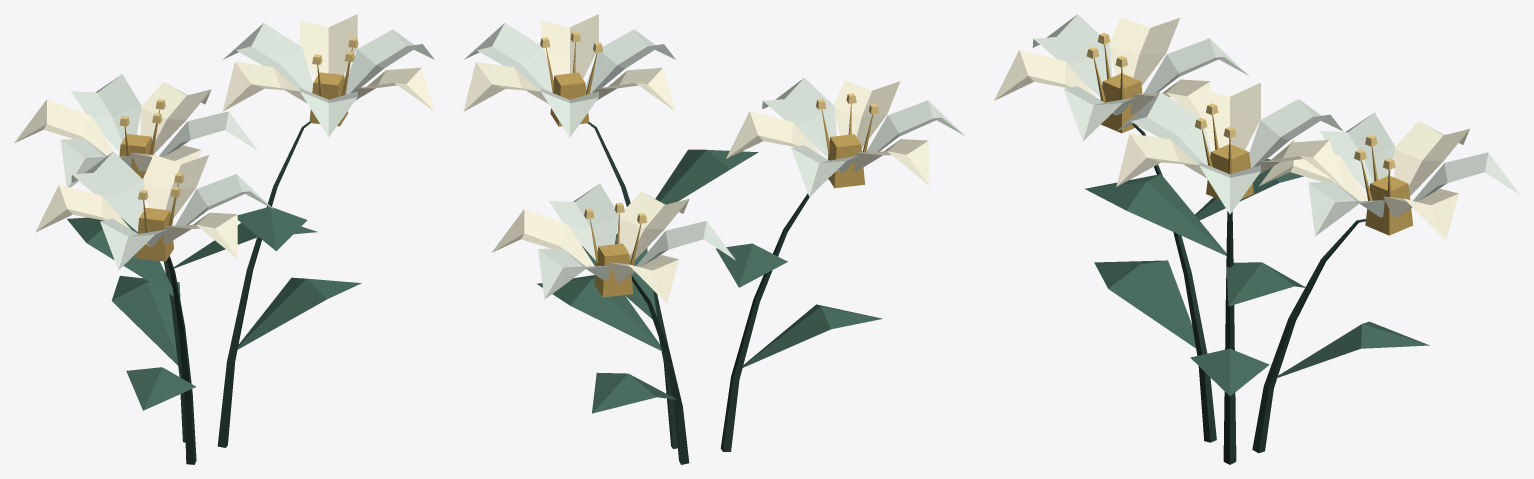
Rendered from ALPINE_BLOOM.lo.glb.
3 views of the same model, side by side, from view 1: azimuth 30°, elevation 25°; view 2: azimuth 150°, elevation 25°; view 3: azimuth 270°, elevation 25° (orthographic). The views are drawn at different scales.
Visible parts, largest first — view 1: ALPINE_BLOOM; view 2: ALPINE_BLOOM; view 3: ALPINE_BLOOM.
Boxes of the visible parts, box(x1,y1,x2,y2) form: ALPINE_BLOOM: box(14, 14, 434, 464); ALPINE_BLOOM: box(463, 14, 964, 464); ALPINE_BLOOM: box(994, 14, 1519, 464).
Bounding box in the file's own units: 0.334 × 0.2776 × 0.329.
1 material, 1 textured.
